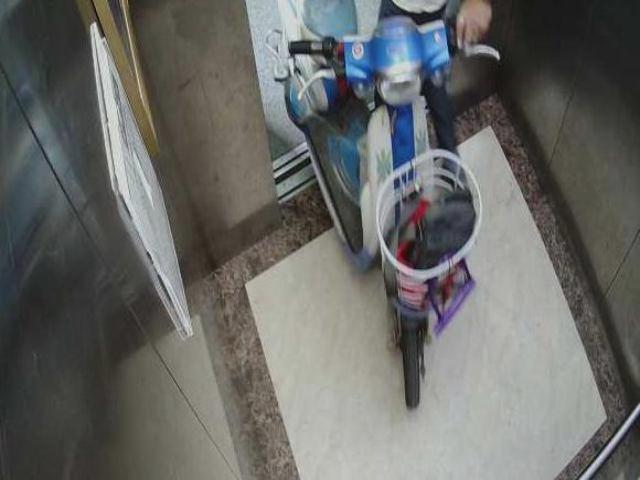emotor: (270, 10, 493, 419)
